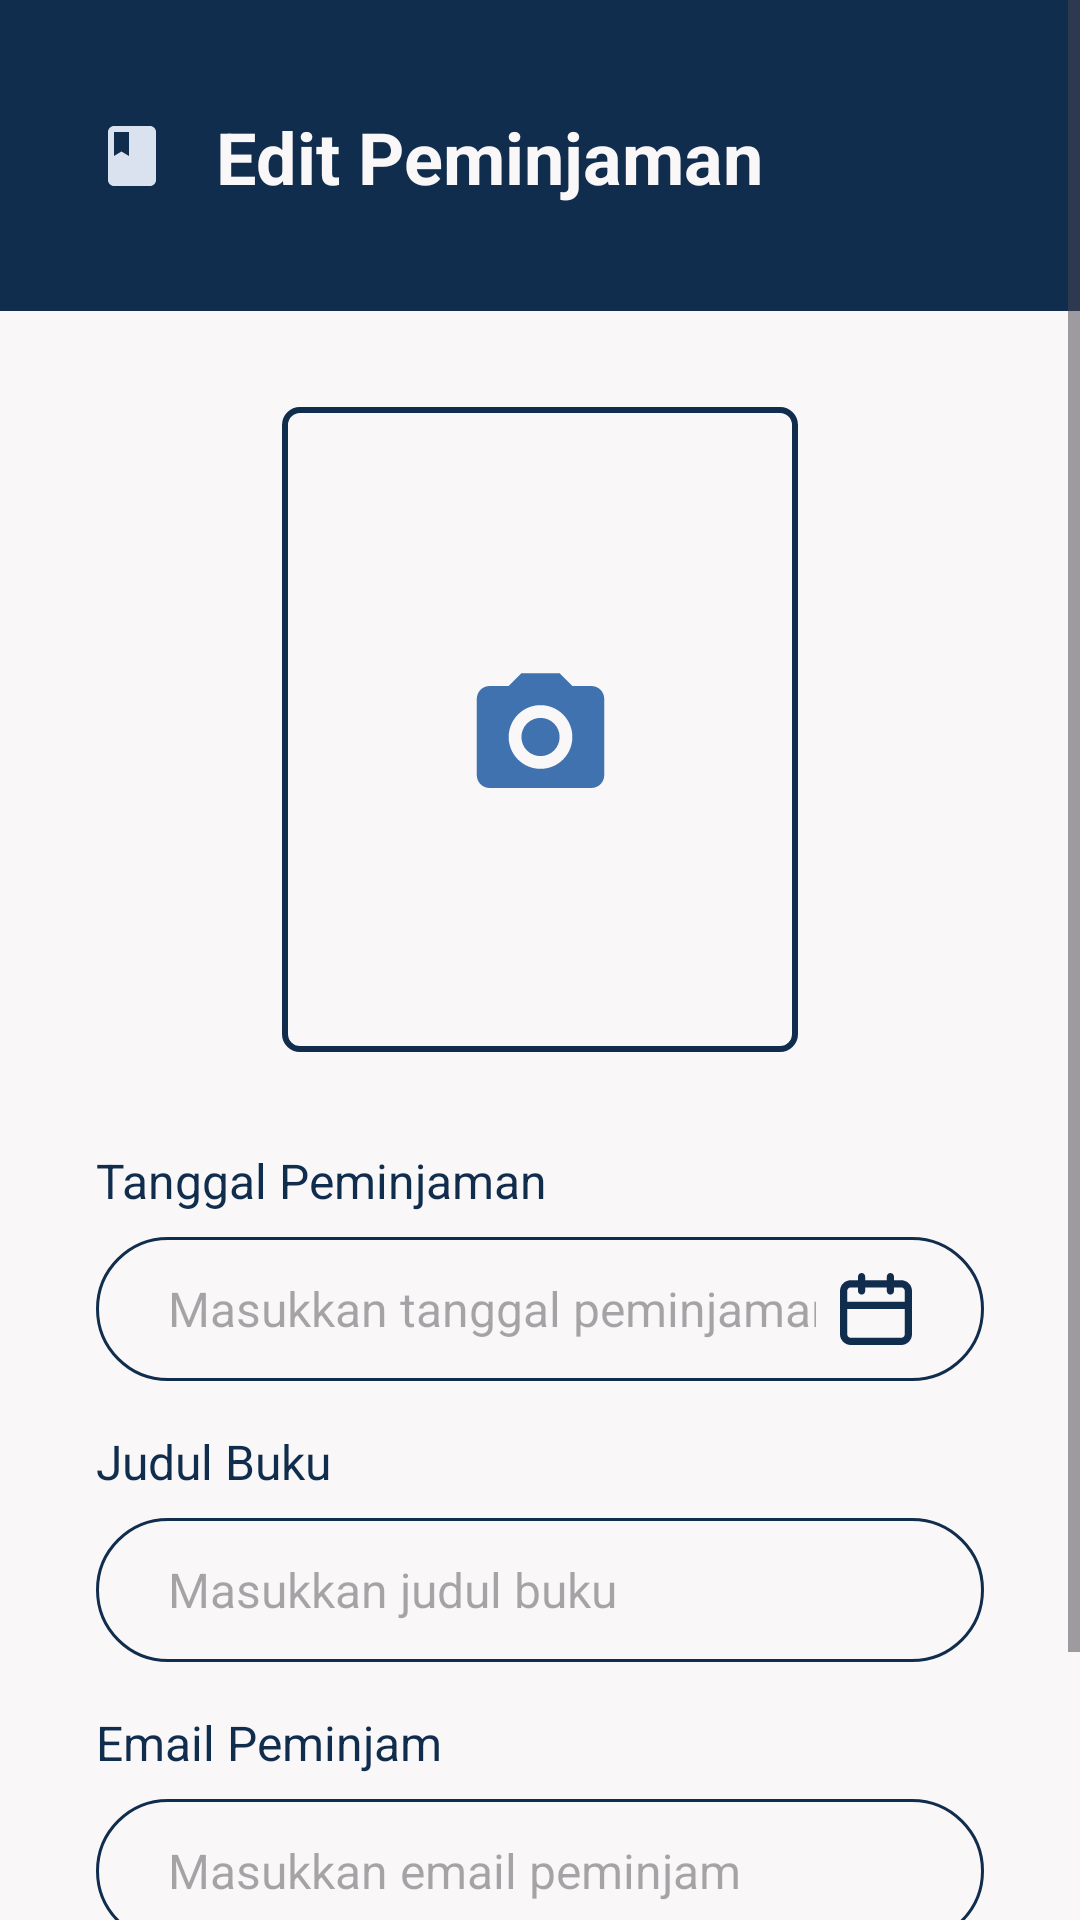

Where icons sit on this 1080px×1920px app screen, as {"left": x1, "top": y1, "right": x2, "bottom": y2}:
calendar: {"left": 840, "top": 1273, "right": 912, "bottom": 1345}
